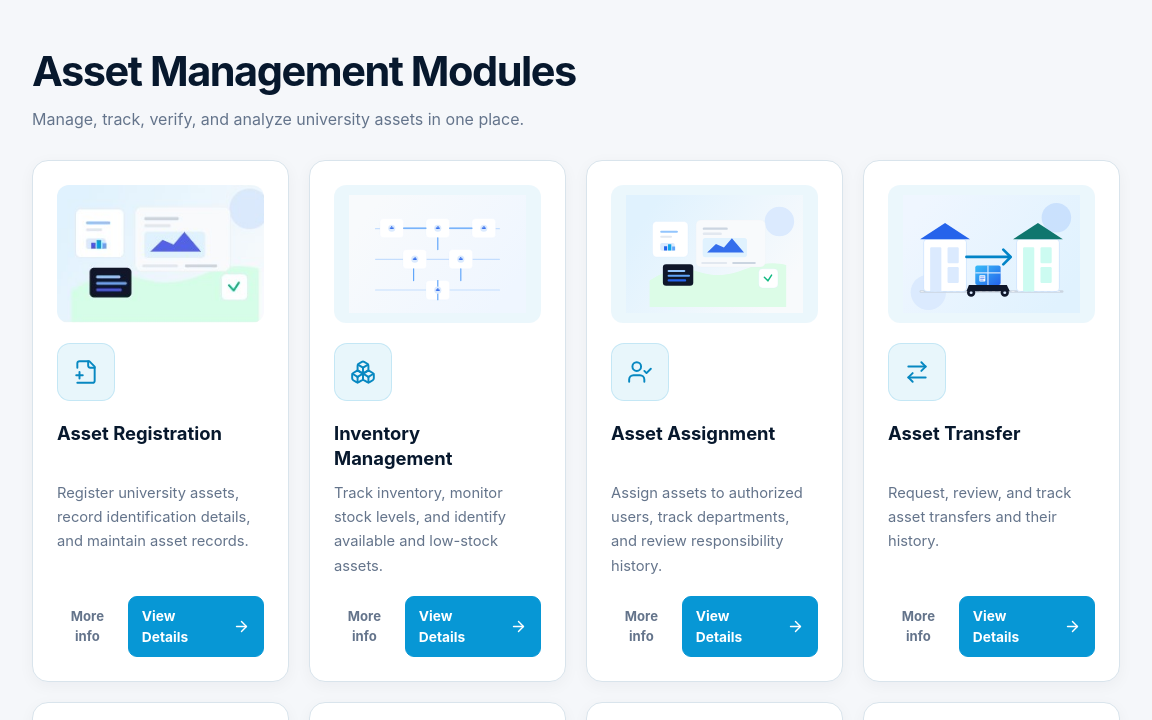
Test: Services page › supports Escape and keeps keyboard focus within the detail dialog
The width and height of the screenshot is (1152, 720).
Click the button with aria-label "More info: Asset Registration": click(87, 626) [57,599,118,654]
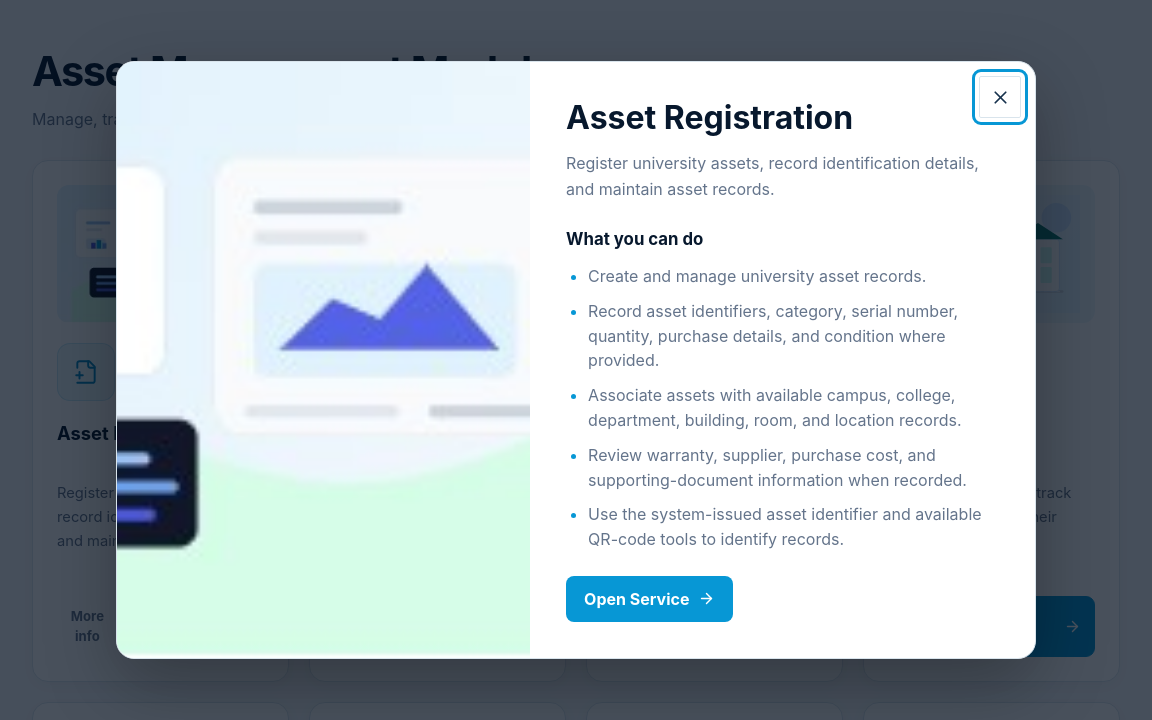
Press Tab in the button named "Close service details", box [979,76,1021,118]
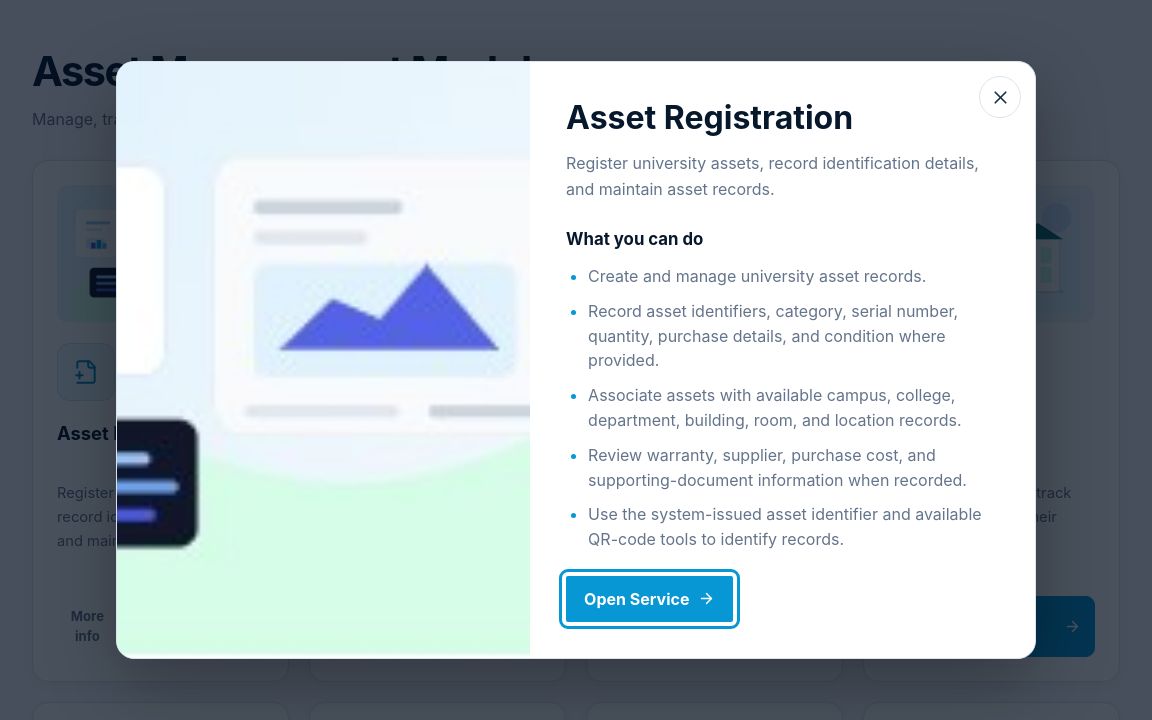
Press Tab in the link "Open Service", box [566,576,733,622]
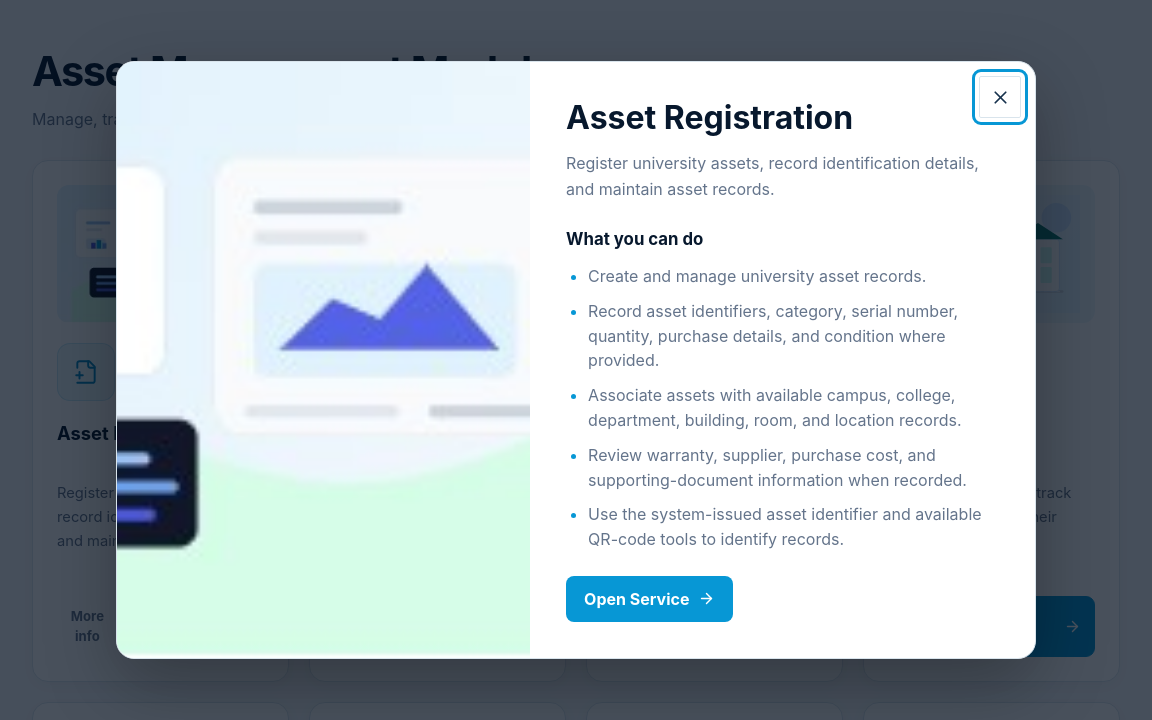
Press Tab in the button named "Close service details", box [979,76,1021,118]
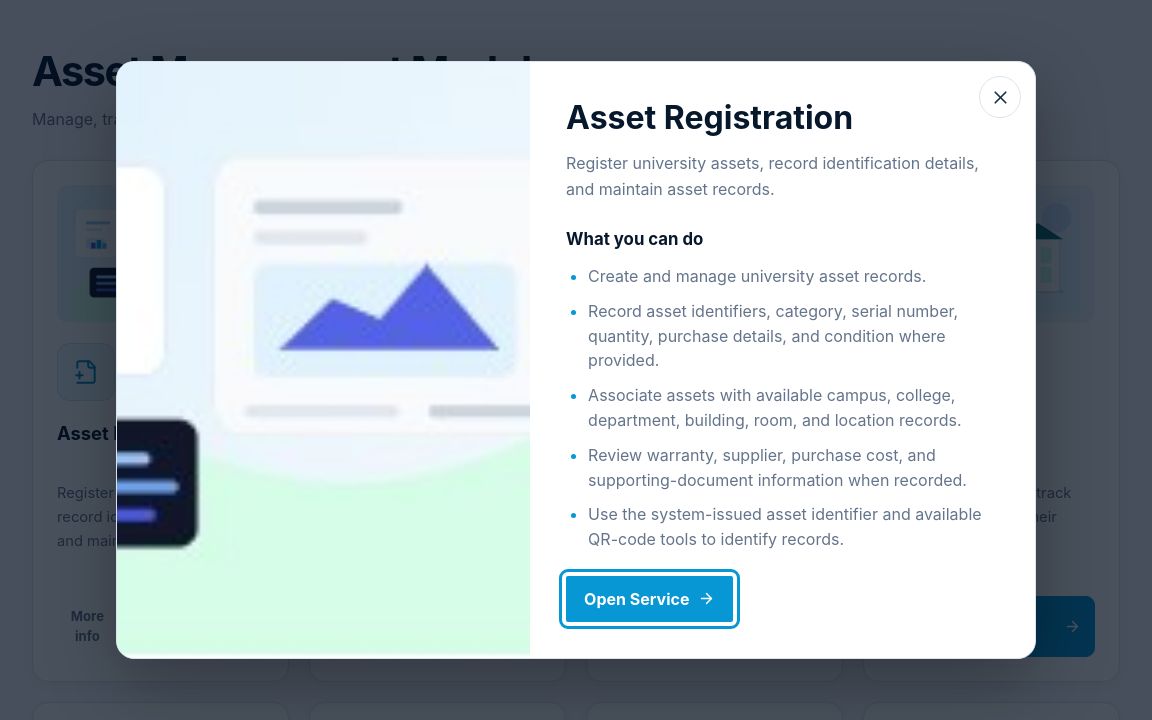
Press Escape
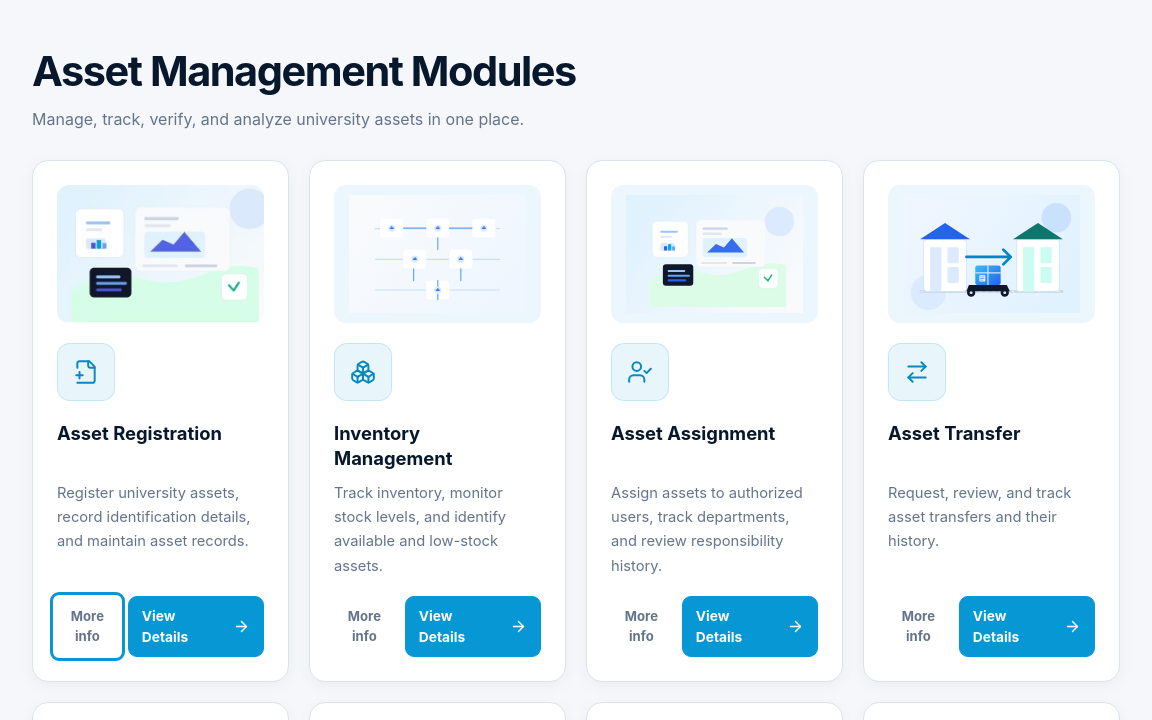
Expected: the dialog is gone
